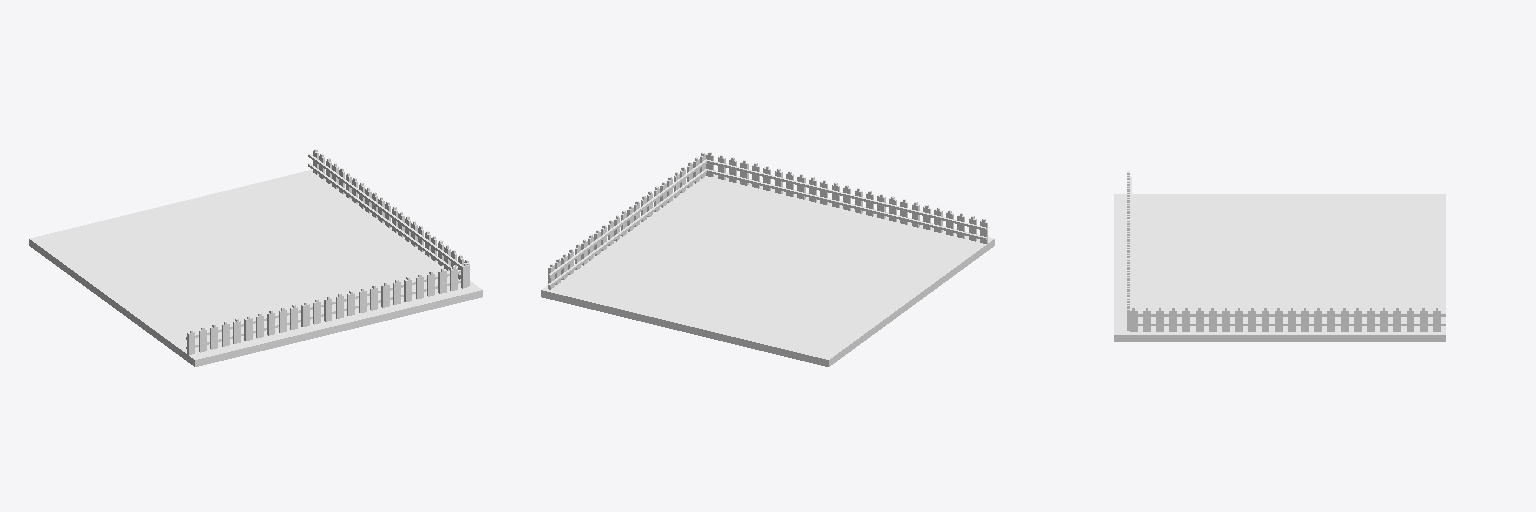
Rendered from funland-0.obj.
3 views of the same model, side by side, from view 1: azimuth 30°, elevation 25°; view 2: azimuth 150°, elevation 25°; view 3: azimuth 270°, elevation 25° (orthographic).
Visible parts, largest first — view 1: object 1; view 2: object 1; view 3: object 1.
Part boxes in pixels (x1,y1,x2,y2): object 1: (29,149,482,366); object 1: (541,152,994,366); object 1: (1114,171,1445,341).
Bounding box in the file's own units: 12.6 × 1.3 × 12.6.